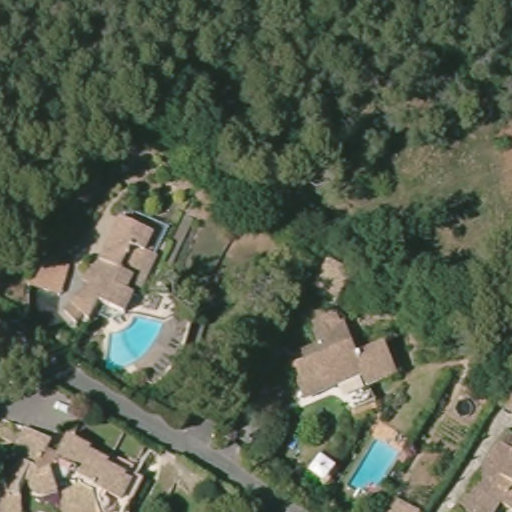pool: (101, 309, 167, 375), (345, 435, 402, 497)
